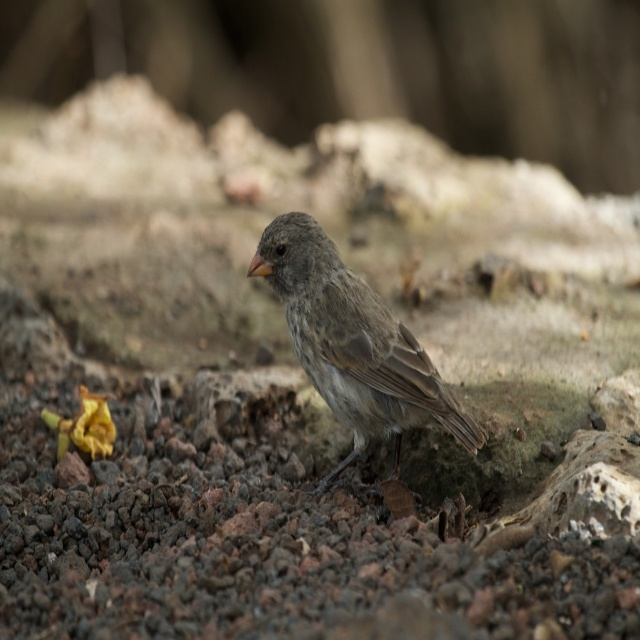Sparrow: (249, 210, 491, 500)
